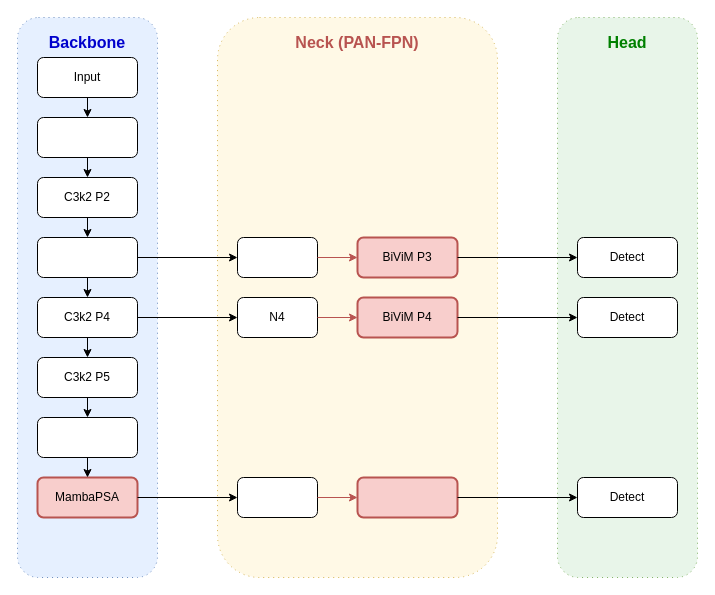
The diagram is 715 pixels wide and 595 high, and some of its shapes have lost their labels. The centre of each missing label's shape, as x and y in pixels:
"BiViM P5" belongs at pixel 407 497.
"C3k2 P3" belongs at pixel 87 257.
"N3" belongs at pixel 277 257.
"N5" belongs at pixel 277 497.
"SPPF" belongs at pixel 87 437.
"Stem" belongs at pixel 87 137.
